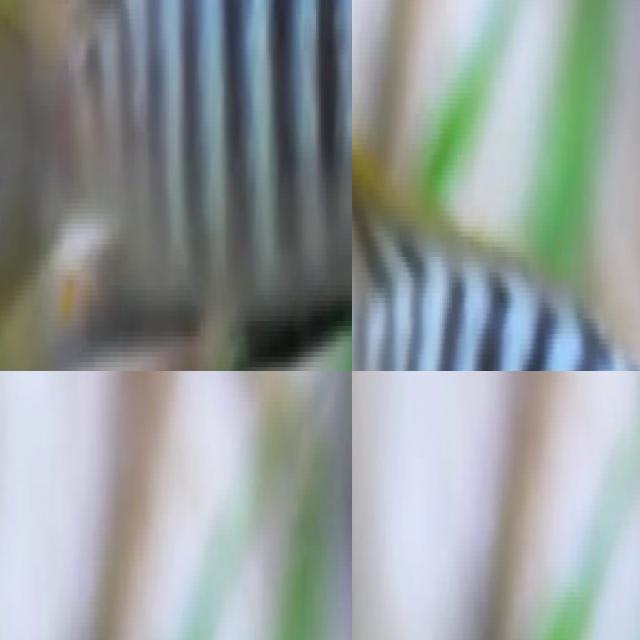fish: (0, 0, 352, 371), (352, 6, 640, 371)
